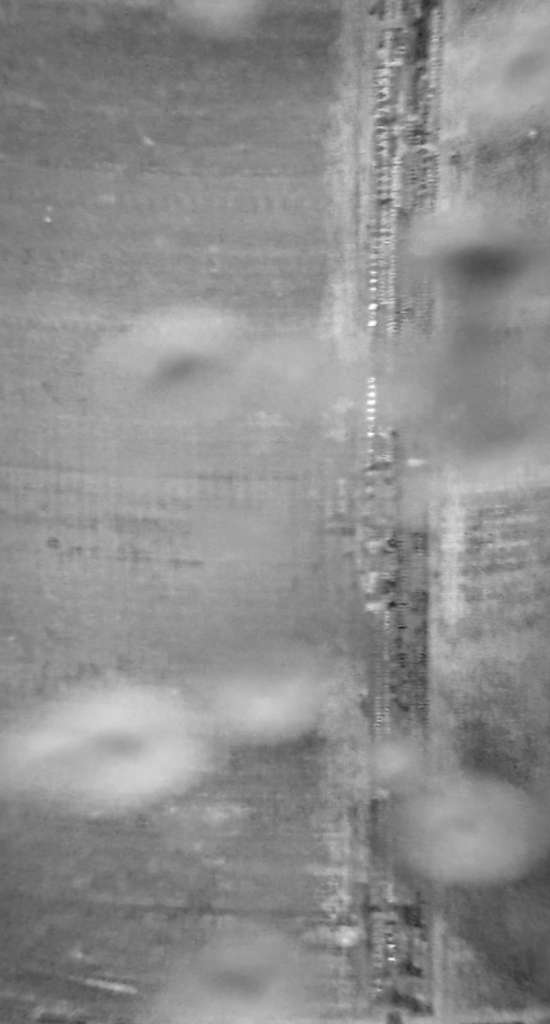splice: (354, 1, 444, 1024)
